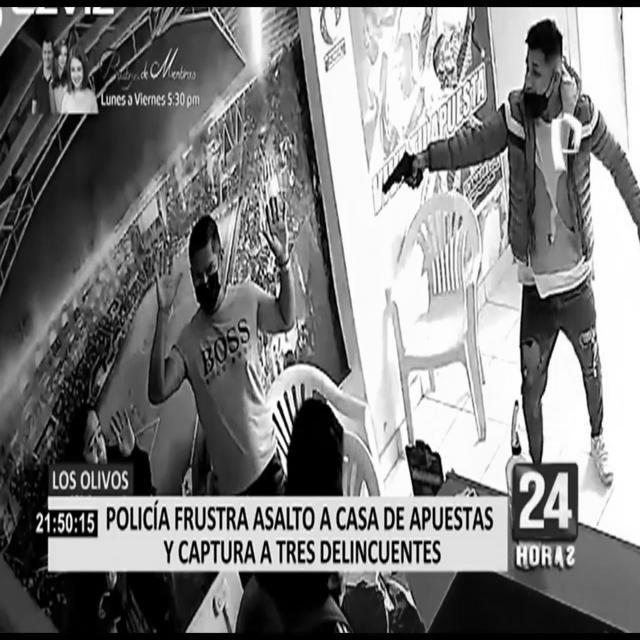Gun: (366, 126, 426, 220)
